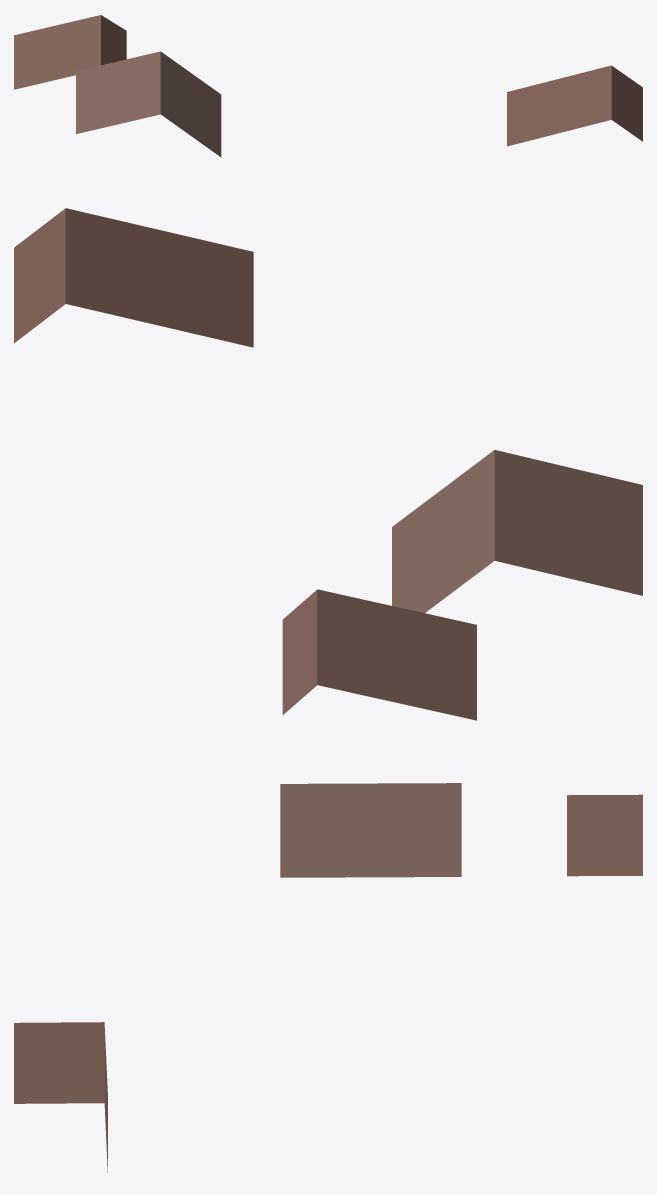
The model's file is c_1628_17837_buildings_residential.glb.
The picture shows the model from 3 angles, top to bottom: view 1: azimuth 30°, elevation 25°; view 2: azimuth 150°, elevation 25°; view 3: azimuth 270°, elevation 25°; orthographic projection. The views are drawn at different scales.
Visible parts, largest first — view 1: geometry_0; view 2: geometry_0; view 3: geometry_0.
Part boxes in pixels (box(x1,y1,x2,y2)): geometry_0: box(14, 15, 642, 157); geometry_0: box(14, 208, 642, 720); geometry_0: box(14, 783, 642, 1172).
Size of the model in its own units: 76.44 by 11.13 by 66.82.
